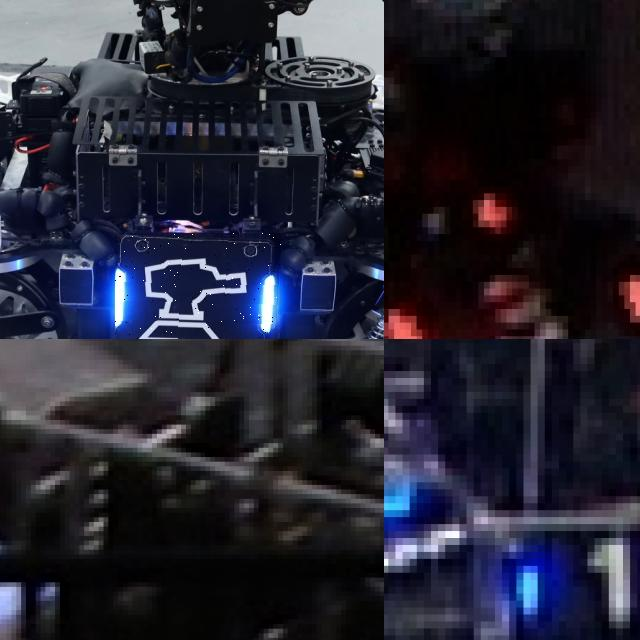B1: (509, 530, 640, 628), (384, 419, 416, 517)
Bs: (115, 233, 280, 339)
